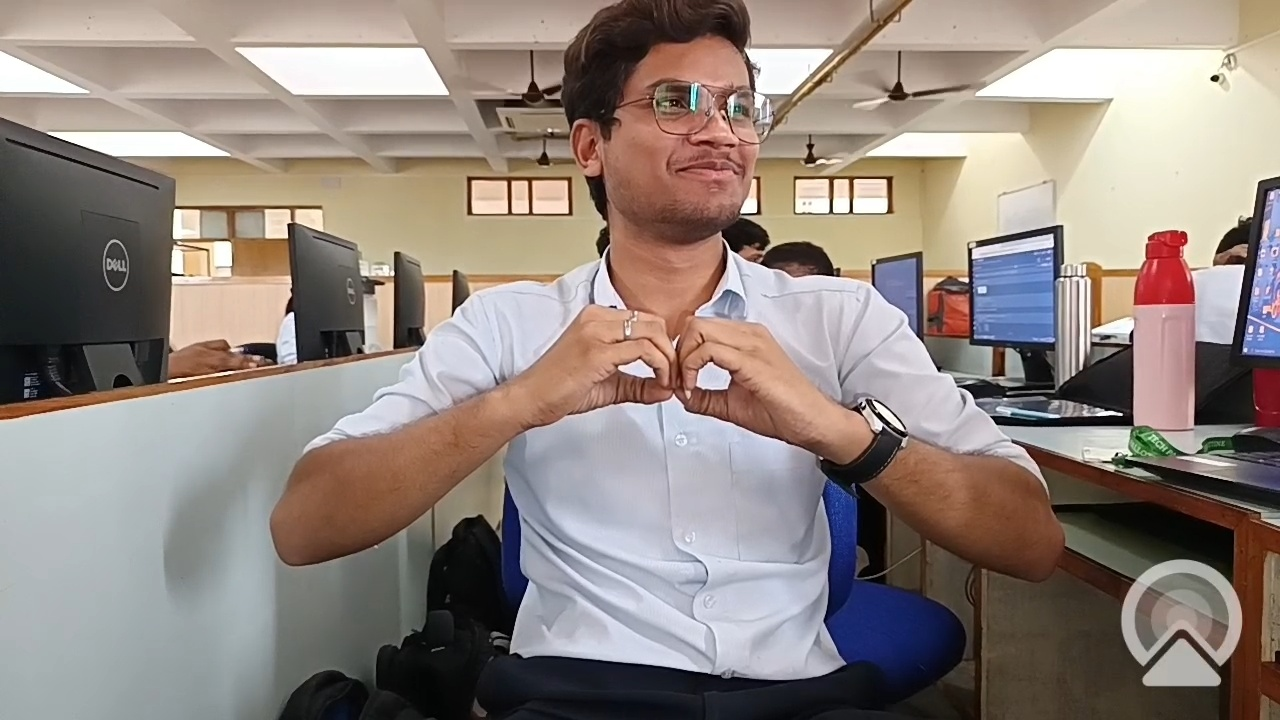B: (468, 267, 896, 496)
